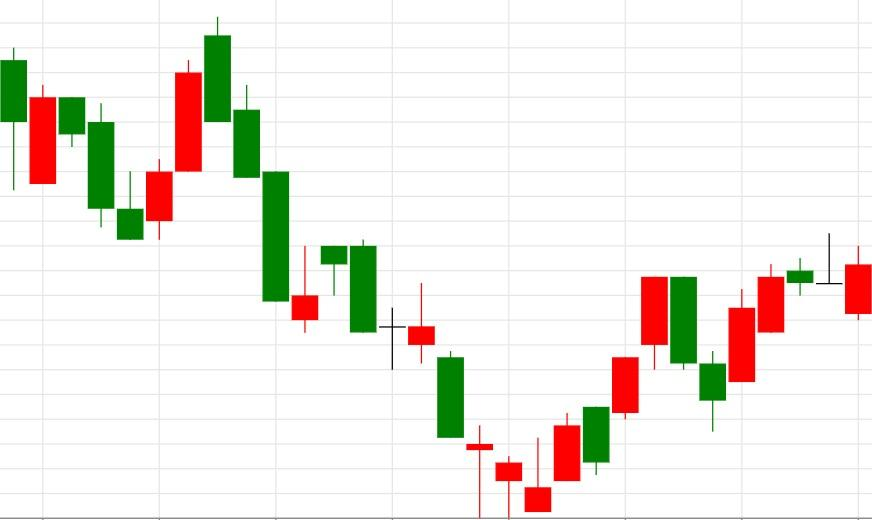bearish_engulfing_fall: (525, 276, 698, 512)
